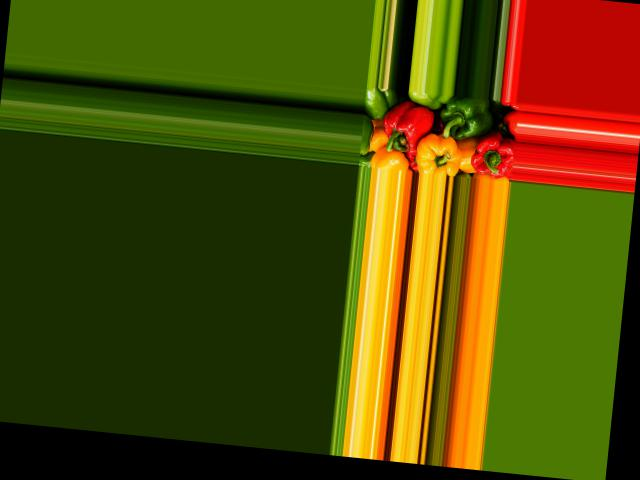bell_pepper: (464, 128, 515, 180)
